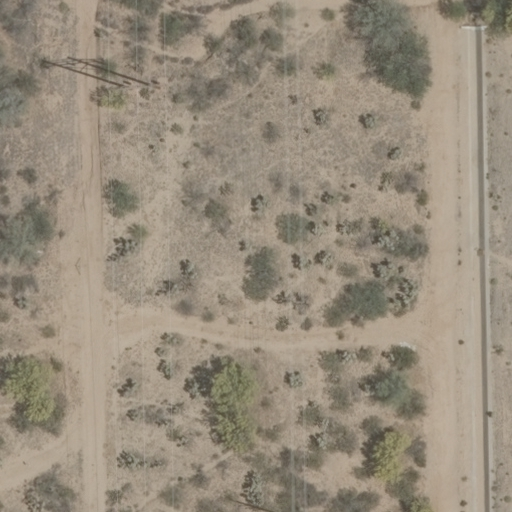DT: (90, 61, 179, 104)
